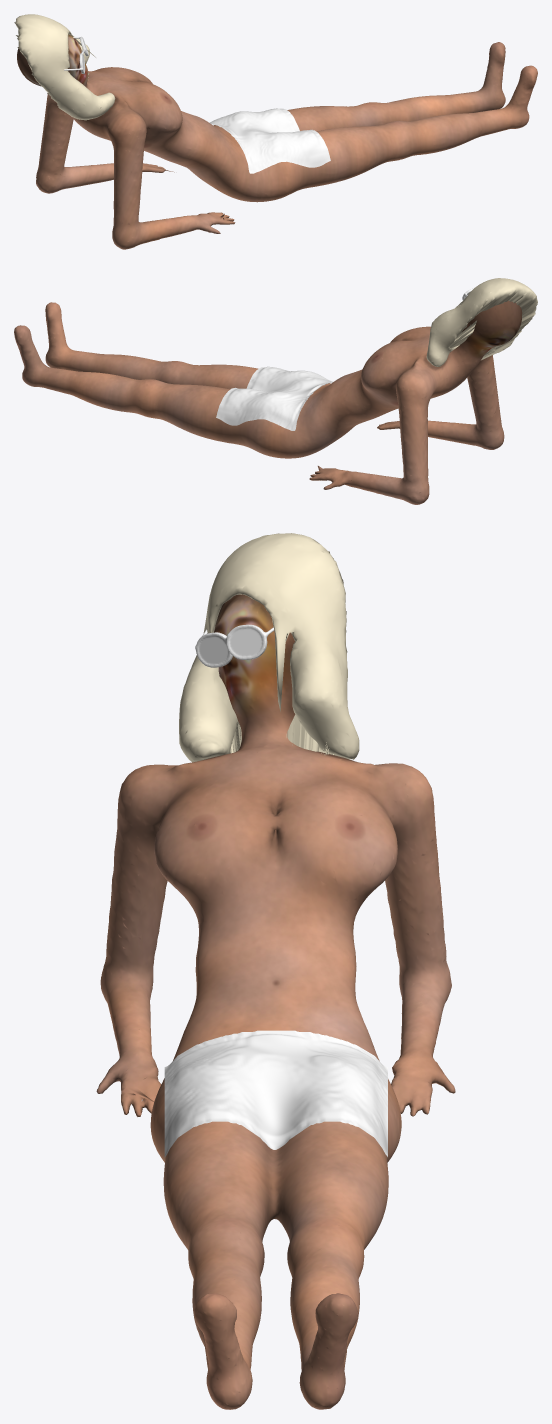
File: kundin_up_a.glb
The picture shows the model from 3 angles, top to bottom: view 1: azimuth 30°, elevation 25°; view 2: azimuth 150°, elevation 25°; view 3: azimuth 270°, elevation 25°; orthographic projection. The views are drawn at different scales.
Parts seen in each view (by area): view 1: body, hair, towel; view 2: body, towel, hair; view 3: body, hair, towel, glasses.
Boxes of the visible parts, <box> form: body: <box>17,34,537,249</box>; hair: <box>14,14,115,120</box>; towel: <box>209,108,330,173</box>; body: <box>14,300,522,504</box>; towel: <box>216,366,332,430</box>; hair: <box>426,278,537,366</box>; body: <box>96,594,455,1409</box>; hair: <box>179,533,359,762</box>; towel: <box>164,1030,387,1157</box>; glasses: <box>195,624,273,667</box>.
Bounding box in the file's own units: 1.73 × 0.7051 × 0.5404.
Materials: 4 (1 with a texture image).
